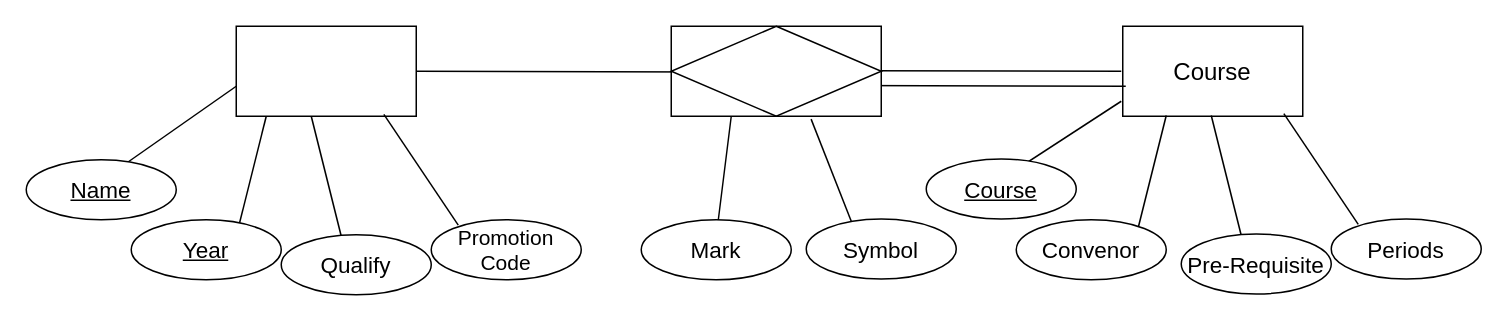
Some shapes in this 1508 by 321 pixel diagram are drawn without their labels. Here are the shapes that lost their labels. From the top down, the centre of each, then its label:
At point (325, 70): "Student".
At point (775, 70): "Takes".
